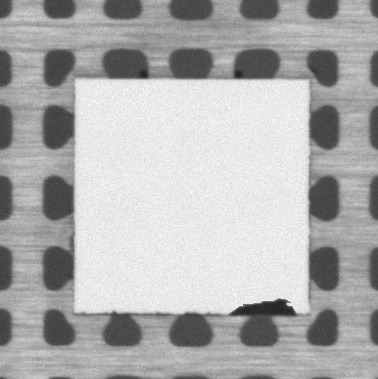DIE_BROKEN: (225, 295, 300, 317)
